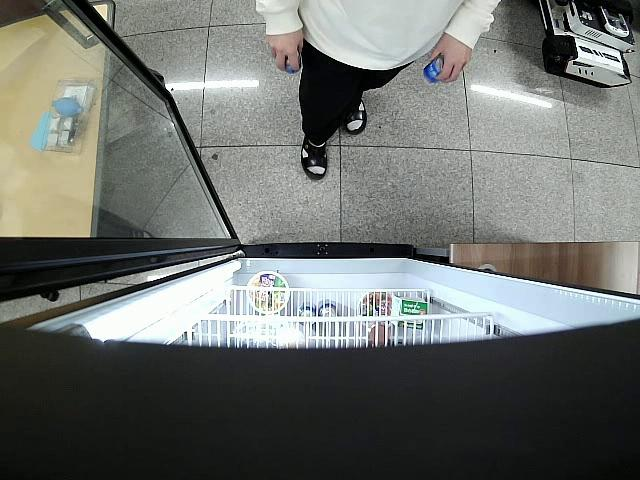00_hand: (430, 27, 471, 82), (267, 24, 305, 70)
15_letsbe: (425, 55, 453, 84), (276, 48, 301, 76)
